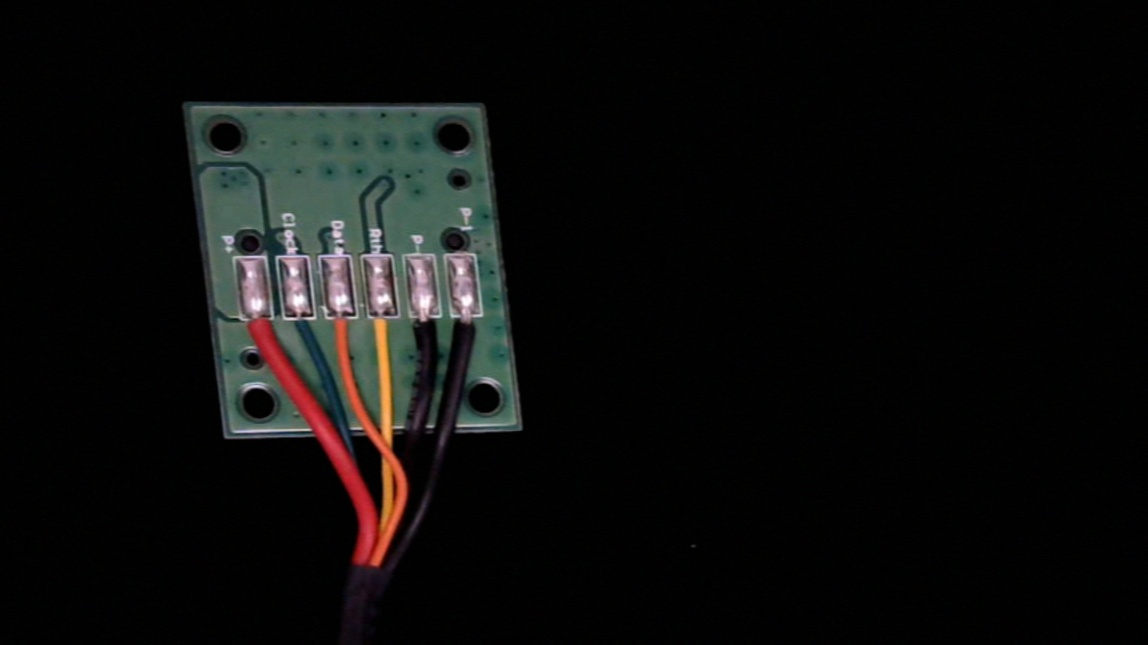Black: (406, 301, 449, 374)
Black1: (450, 299, 492, 365)
Green: (280, 297, 323, 358)
Orange: (323, 298, 365, 370)
Red: (240, 301, 284, 370)
Yellow: (367, 300, 411, 374)
